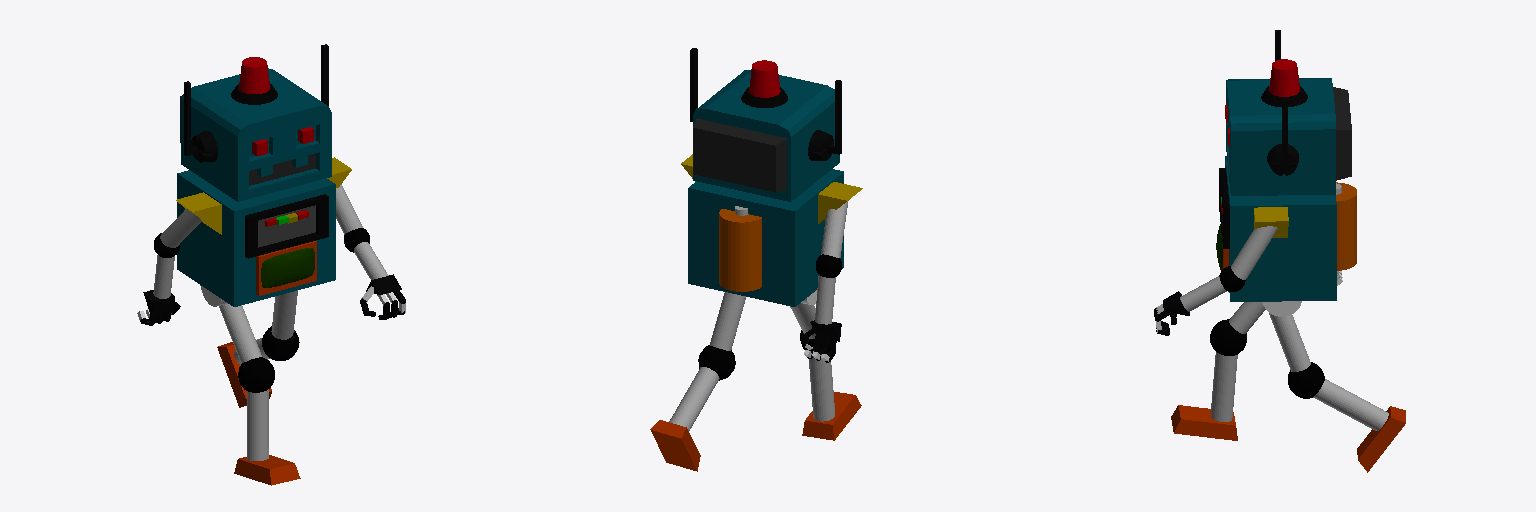
Rendered from Robots1.obj.
3 views of the same model, side by side, from view 1: azimuth 30°, elevation 25°; view 2: azimuth 150°, elevation 25°; view 3: azimuth 270°, elevation 25° (orthographic).
Visible parts, largest first — view 1: head_Cube.002, middle_Cube.049, leglow.R_Sphere, armlow.R_Sphere.003, Wedge.002_Wedge.004, foot.R_Cube.004, legup.R_Cylinder.003, Legup.L_Cylinder.008, Wedge.R_Wedge, leglow.L_Sphere.002, armup.R_Cylinder.010, foot.L_Cube.006 (+1 smaller); view 2: head_Cube.002, middle_Cube.049, leglow.L_Sphere.002, armlow.R_Sphere.003, foot.L_Cube.006, leglow.R_Sphere, foot.R_Cube.004, Legup.L_Cylinder.008, armup.R_Cylinder.010, Wedge.R_Wedge; view 3: head_Cube.002, middle_Cube.049, leglow.L_Sphere.002, leglow.R_Sphere, foot.R_Cube.004, Wedge.002_Wedge.004, foot.L_Cube.006, Legup.L_Cylinder.008, armup.L_Cylinder.015, Wedge.L_Wedge.005, legup.R_Cylinder.003.
Boxes of the visible parts, <box> form: head_Cube.002: <box>180,44,331,201</box>; middle_Cube.049: <box>177,170,335,306</box>; leglow.R_Sphere: <box>238,357,274,460</box>; armlow.R_Sphere.003: <box>143,233,179,317</box>; Wedge.002_Wedge.004: <box>344,228,401,294</box>; foot.R_Cube.004: <box>234,455,300,485</box>; legup.R_Cylinder.003: <box>219,304,261,363</box>; Legup.L_Cylinder.008: <box>271,290,297,339</box>; Wedge.R_Wedge: <box>176,192,221,234</box>; leglow.L_Sphere.002: <box>234,326,299,364</box>; armup.R_Cylinder.010: <box>160,209,201,247</box>; foot.L_Cube.006: <box>217,342,271,407</box>; head_Cube.002: <box>690,48,841,201</box>; middle_Cube.049: <box>688,169,843,306</box>; leglow.L_Sphere.002: <box>669,345,735,430</box>; armlow.R_Sphere.003: <box>810,254,841,341</box>; foot.L_Cube.006: <box>650,420,700,471</box>; leglow.R_Sphere: <box>800,330,836,421</box>; foot.R_Cube.004: <box>802,392,861,440</box>; Legup.L_Cylinder.008: <box>710,292,745,350</box>; armup.R_Cylinder.010: <box>821,200,848,257</box>; Wedge.R_Wedge: <box>818,182,862,223</box>; head_Cube.002: <box>1225,30,1351,195</box>; middle_Cube.049: <box>1216,156,1356,301</box>; leglow.L_Sphere.002: <box>1288,362,1388,430</box>; leglow.R_Sphere: <box>1210,319,1246,421</box>; foot.R_Cube.004: <box>1171,405,1237,440</box>; Wedge.002_Wedge.004: <box>1163,266,1245,315</box>; foot.L_Cube.006: <box>1357,406,1405,472</box>; Legup.L_Cylinder.008: <box>1269,313,1310,371</box>; armup.L_Cylinder.015: <box>1231,226,1277,279</box>; Wedge.L_Wedge.005: <box>1254,207,1288,237</box>; legup.R_Cylinder.003: <box>1229,302,1265,333</box>.
Size of the model in its own units: 2.05 by 4.22 by 2.52.